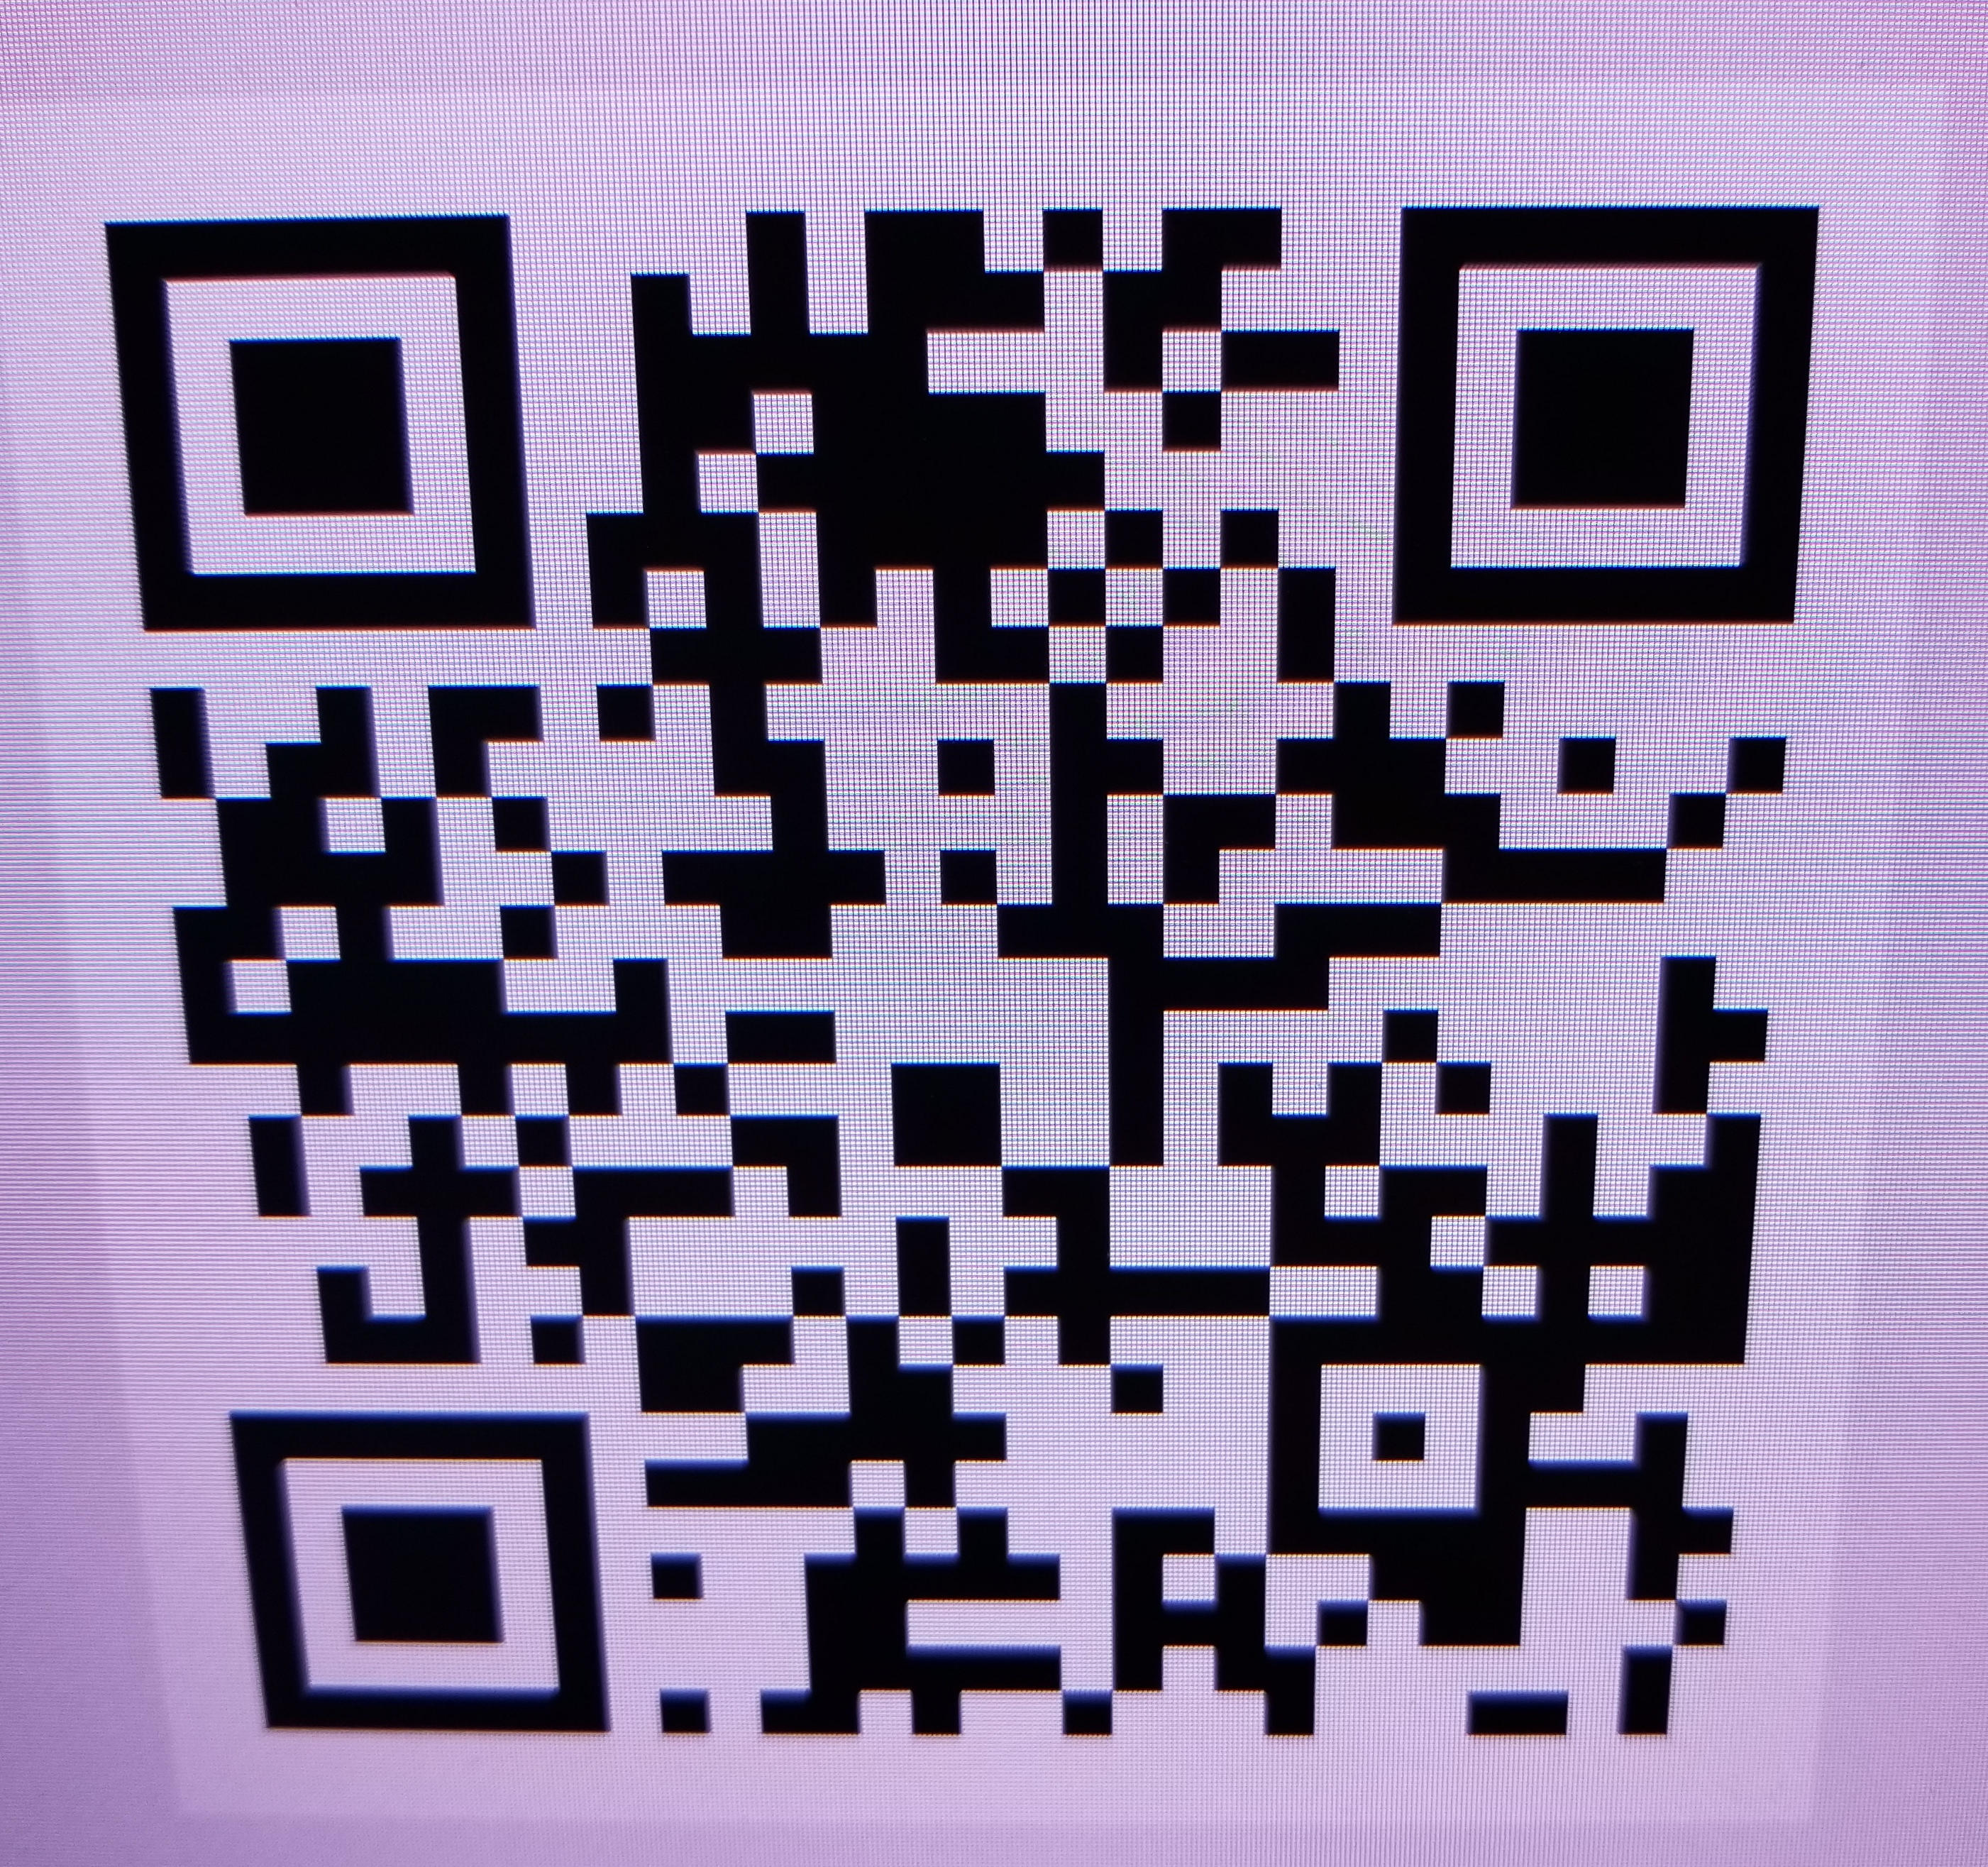QR_CODE: (42, 84, 1874, 1790)
